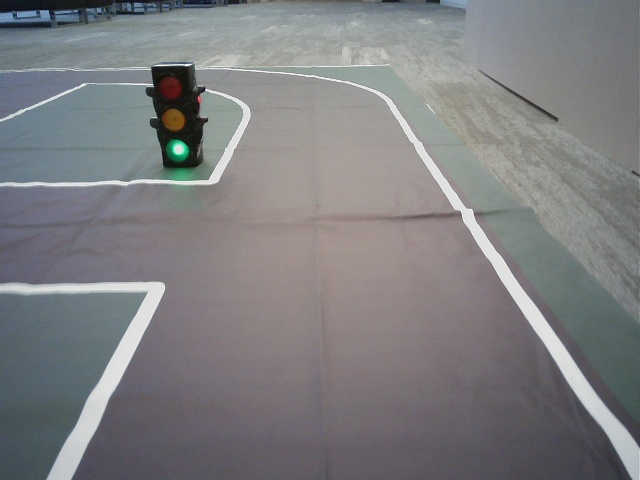green: (151, 66, 194, 160)
